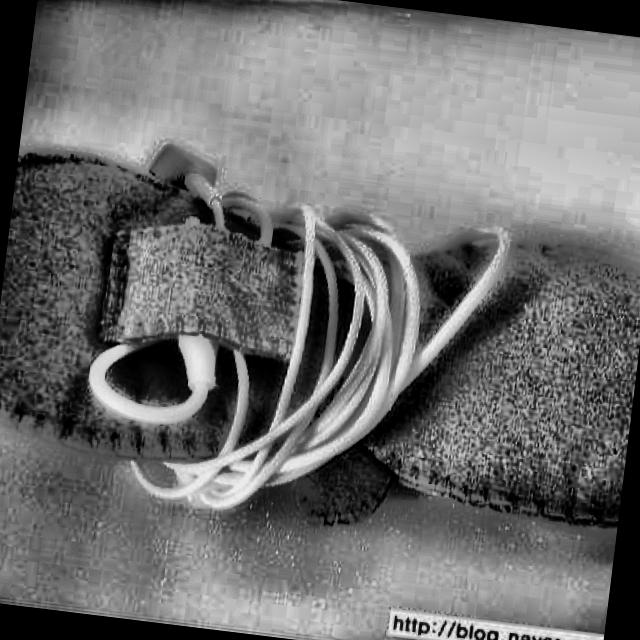Cable: (68, 138, 520, 546)
